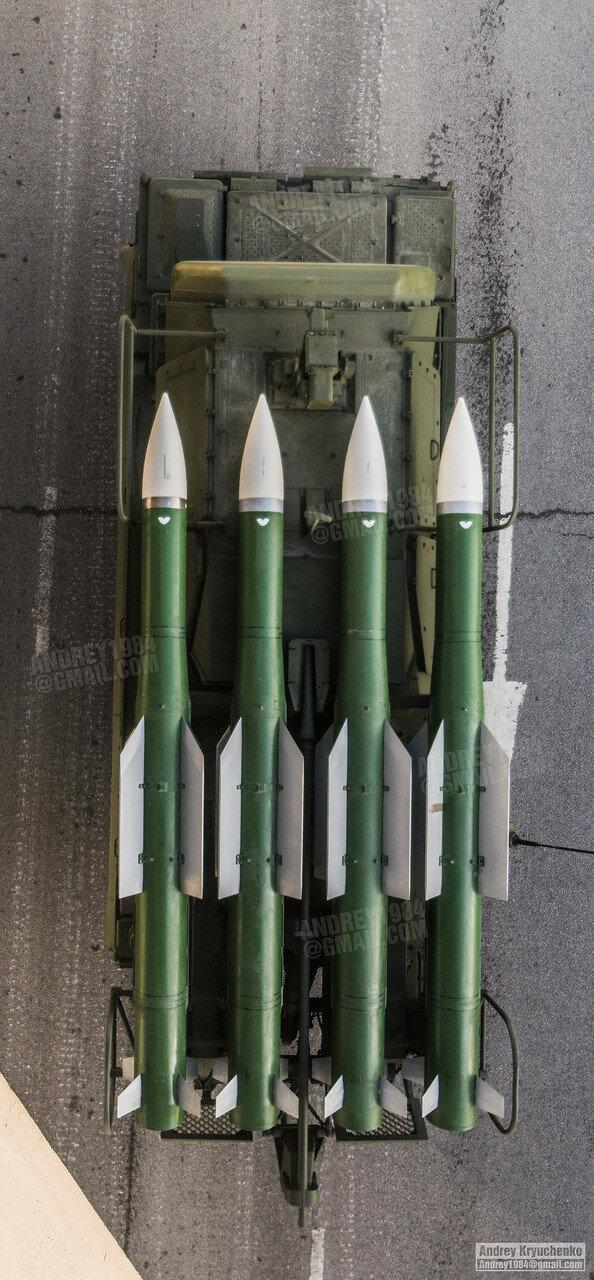rszo: (56, 128, 547, 1169)
